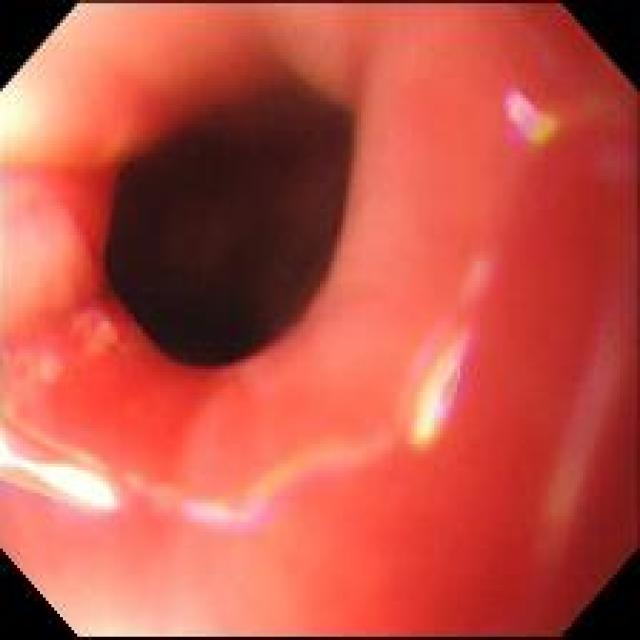blur: (12, 422, 634, 631), (444, 5, 634, 631)
color misalignment: (246, 449, 330, 528), (437, 325, 477, 423), (497, 85, 560, 145), (223, 499, 251, 532)
contrast: (102, 56, 361, 379)
saturation: (0, 5, 102, 158), (55, 573, 208, 635)
specularity: (43, 465, 113, 505), (0, 438, 43, 478)
